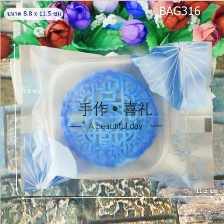snack: (10, 32, 220, 194)
